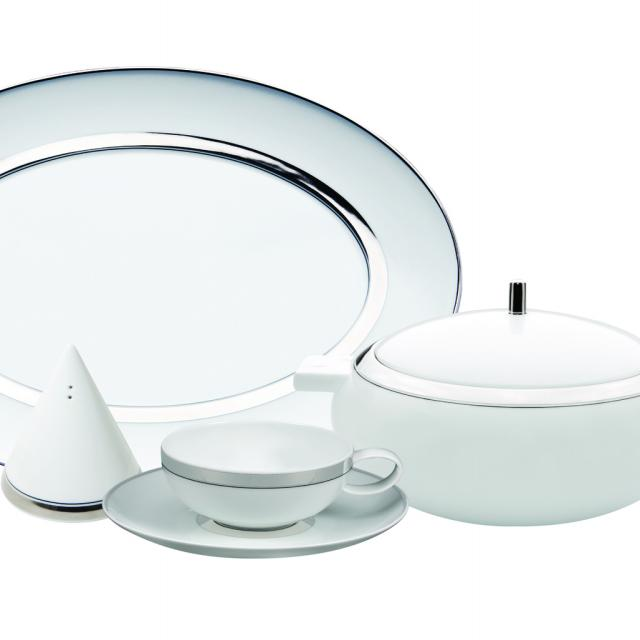non-organic waste: (0, 56, 472, 526)
